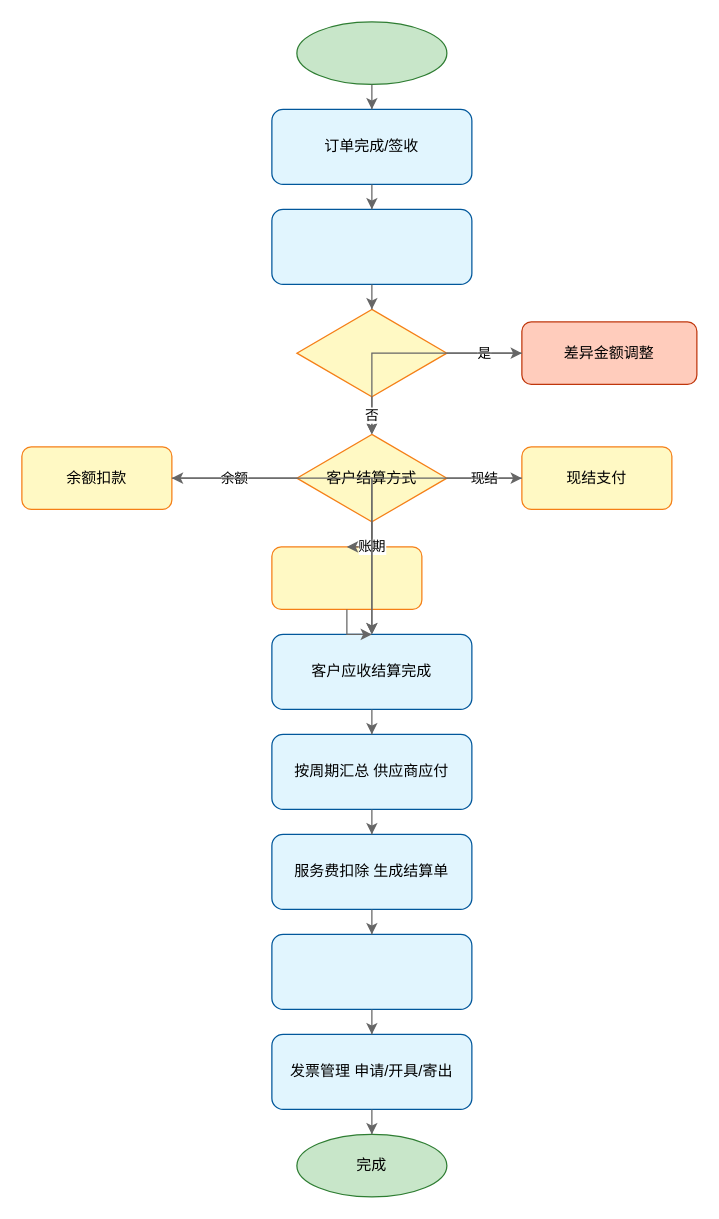
Image size: 719x1219. Some labels were removed from this diagram. The box of each missing label's shape, as (x1, y1, x2, y2) in pixels:
供应商结算完成: (271, 933, 472, 1009)
开始: (296, 21, 447, 84)
是否存在差异？: (296, 308, 447, 397)
生成应收账款: (271, 208, 472, 284)
账期结算: (271, 546, 422, 609)
